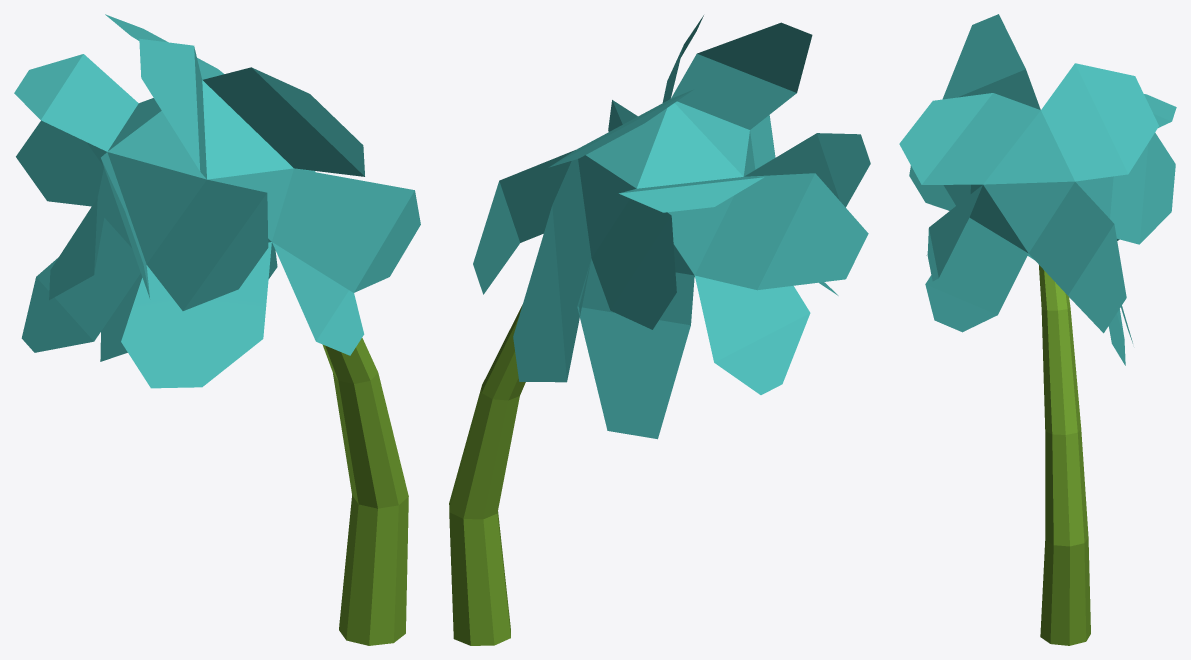
3 renders of one model, left to right at view 1: azimuth 30°, elevation 25°; view 2: azimuth 150°, elevation 25°; view 3: azimuth 270°, elevation 25°, orthographic. The views are drawn at different scales.
Parts seen in each view (by area): view 1: f4; view 2: f4; view 3: f4.
Boxes of the visible parts, <box> form: f4: <box>14,14,420,645</box>; f4: <box>449,15,870,645</box>; f4: <box>899,14,1176,645</box>.
Size of the model in its own units: 79.35 by 131 by 63.28.
